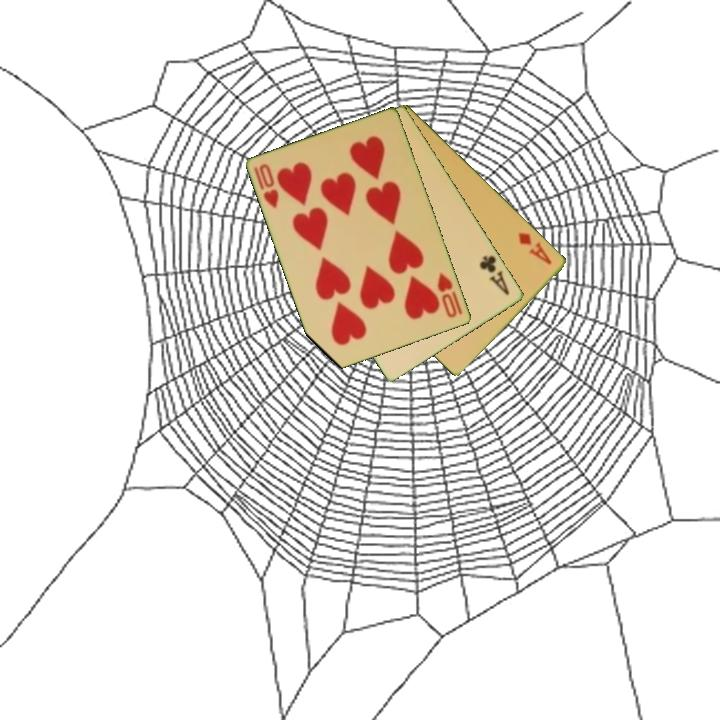10h: (434, 268, 466, 321), (251, 160, 282, 211)
Ac: (476, 252, 513, 298)
Ad: (515, 229, 555, 268)
